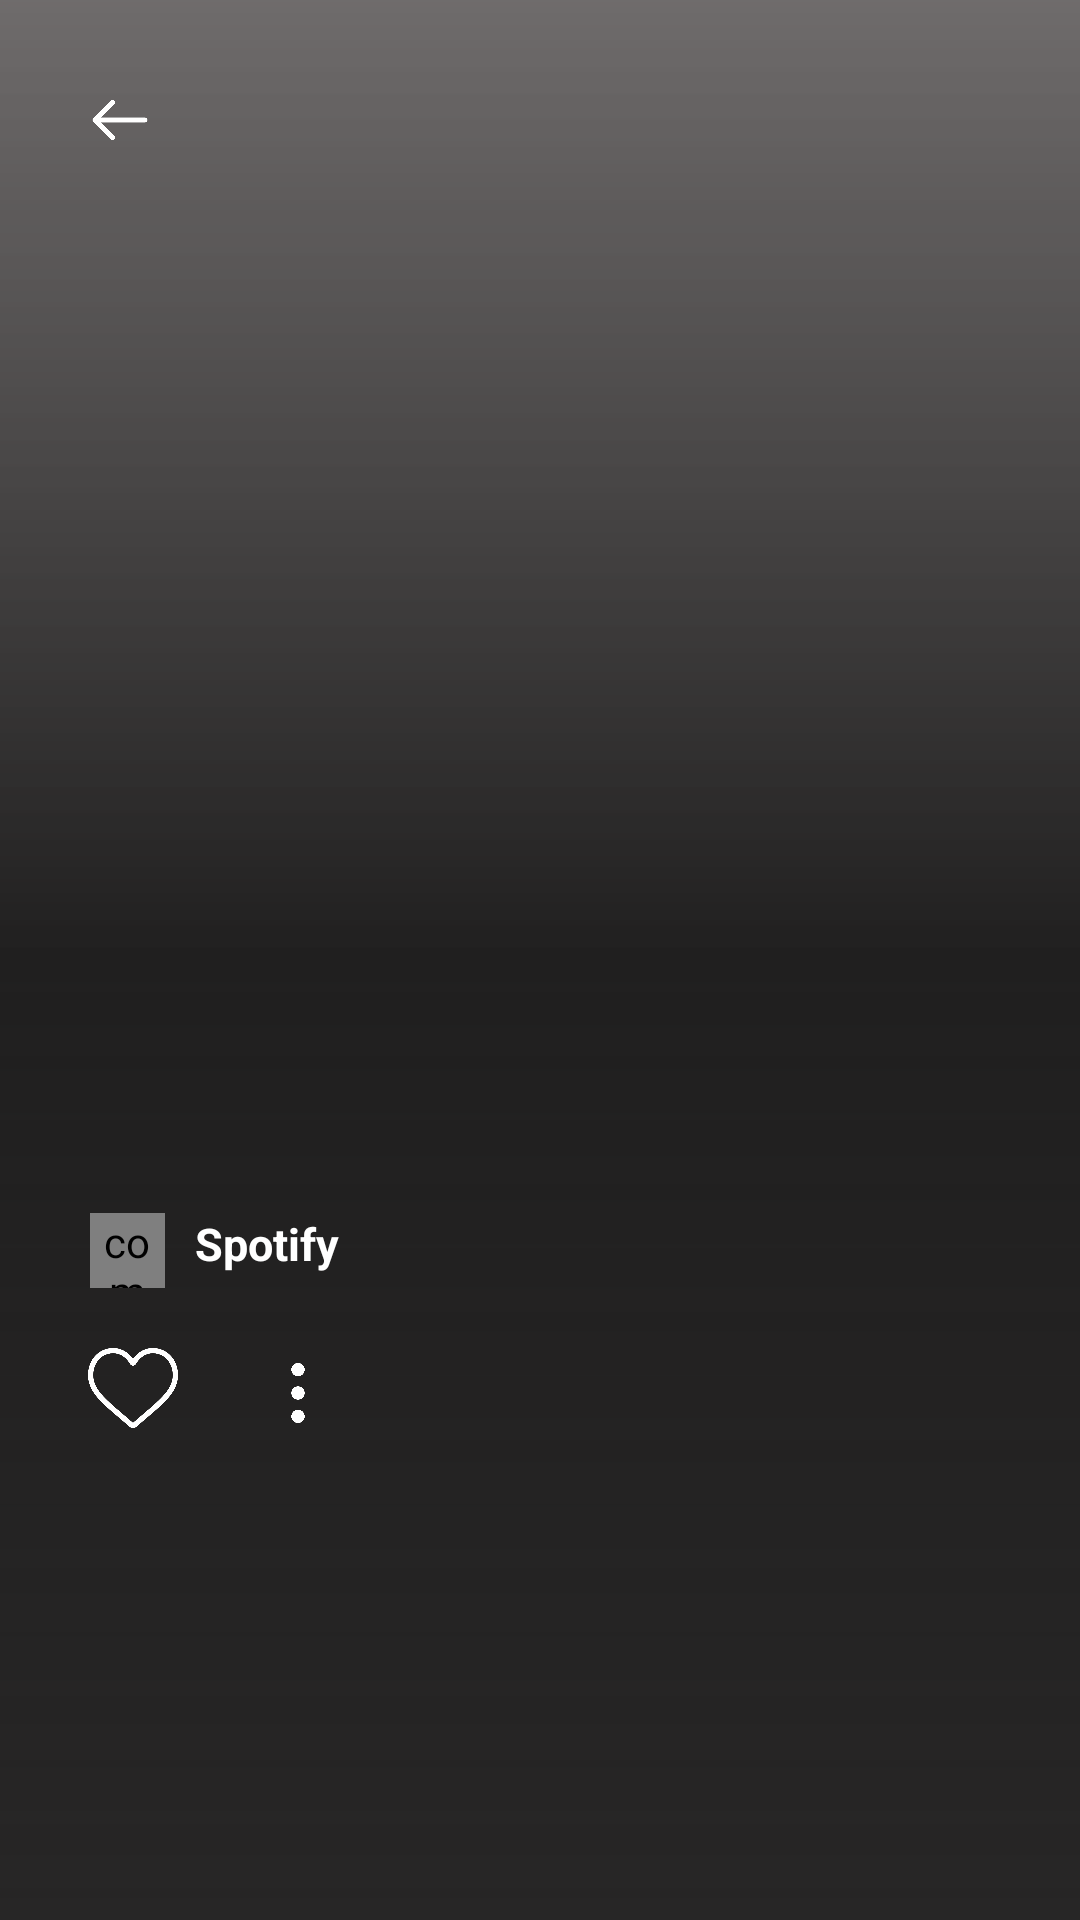

Icons on this 1080 x 1920 Android screen, each with its box as box(x1, y1, x2, y2):
back: box(92, 100, 148, 140)
heart: box(88, 1348, 178, 1428)
more: box(291, 1363, 305, 1423)
